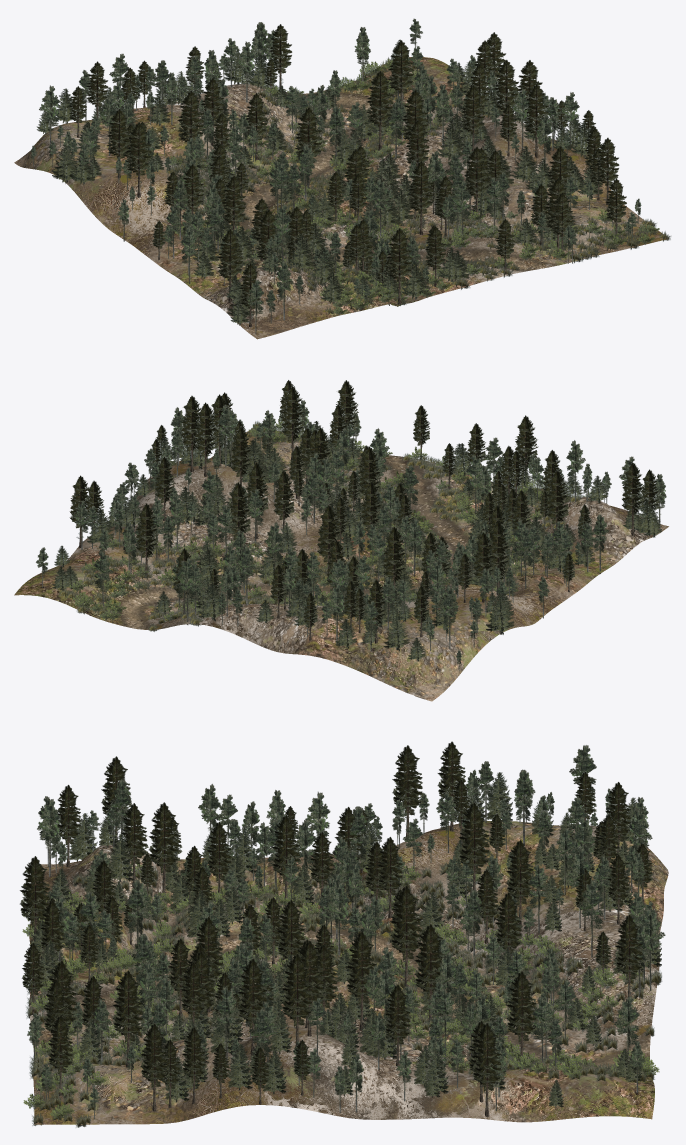
The model's file is forestroad.glb.
3 views of the same model, one above another, from view 1: azimuth 30°, elevation 25°; view 2: azimuth 150°, elevation 25°; view 3: azimuth 270°, elevation 25° (orthographic). The views are drawn at different scales.
Parts seen in each view (by area): view 1: 05ade0e713892be558511d706fa6c547-no-bg-preview (carve.photos, Plane.002_Material.003_0, Cylinder.002_Material.004_0; view 2: 05ade0e713892be558511d706fa6c547-no-bg-preview (carve.photos, Plane.002_Material.003_0, Cylinder.002_Material.004_0; view 3: 05ade0e713892be558511d706fa6c547-no-bg-preview (carve.photos, Plane.002_Material.003_0, Cylinder.002_Material.004_0.
Boxes of the visible parts, bbox=[...] form: 05ade0e713892be558511d706fa6c547-no-bg-preview (carve.photos: bbox=[30, 18, 670, 334]; Plane.002_Material.003_0: bbox=[14, 57, 667, 339]; Cylinder.002_Material.004_0: bbox=[77, 41, 617, 327]; 05ade0e713892be558511d706fa6c547-no-bg-preview (carve.photos: bbox=[36, 380, 666, 671]; Plane.002_Material.003_0: bbox=[14, 426, 668, 701]; Cylinder.002_Material.004_0: bbox=[79, 382, 650, 643]; 05ade0e713892be558511d706fa6c547-no-bg-preview (carve.photos: bbox=[20, 741, 665, 1127]; Plane.002_Material.003_0: bbox=[29, 821, 668, 1124]; Cylinder.002_Material.004_0: bbox=[32, 748, 644, 1117].
Bounding box in the file's own units: 9.96 × 2.78 × 9.74.
Materials: 3 (3 with a texture image).
